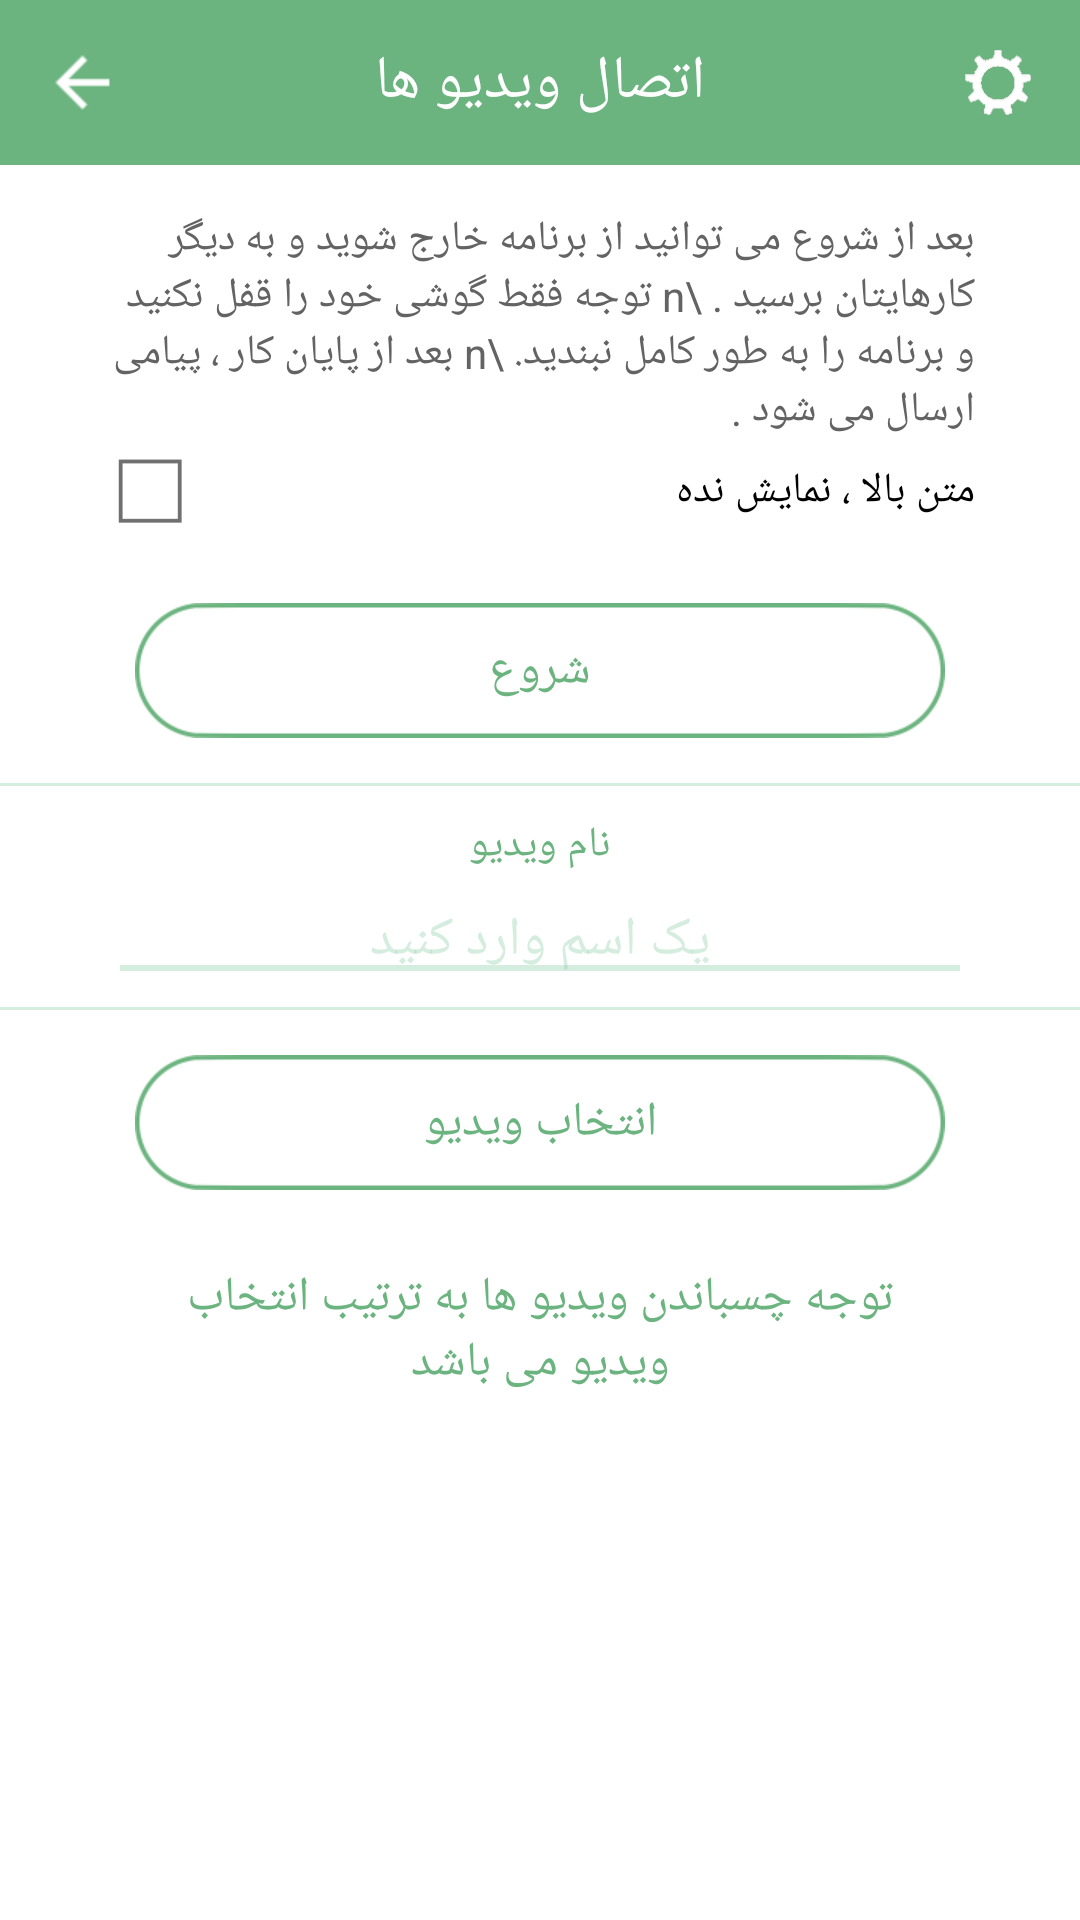

Screen size 1080×1920. Icon name, then its box in pixels as (x1, y1, x2, y2):
back unpresed: (55, 55, 110, 110)
settings: (965, 50, 1031, 115)
